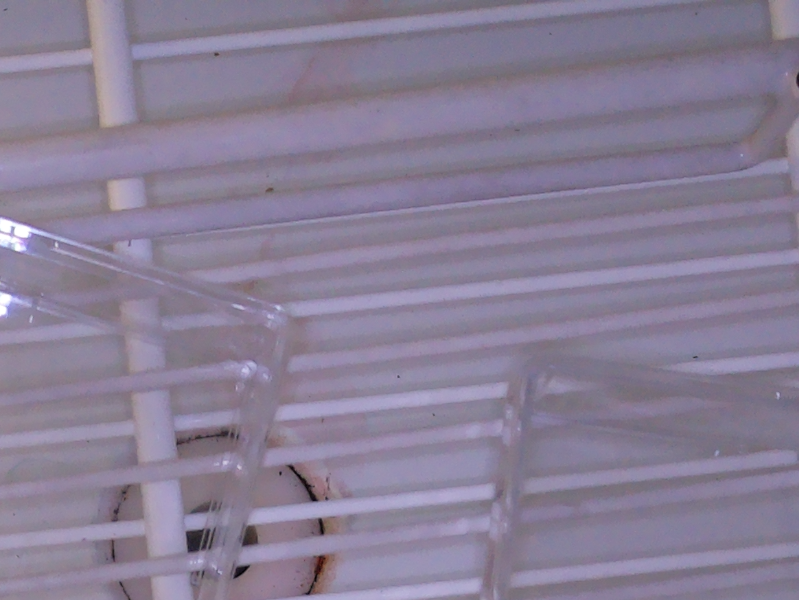plate: (1, 211, 305, 600), (485, 345, 799, 600)
